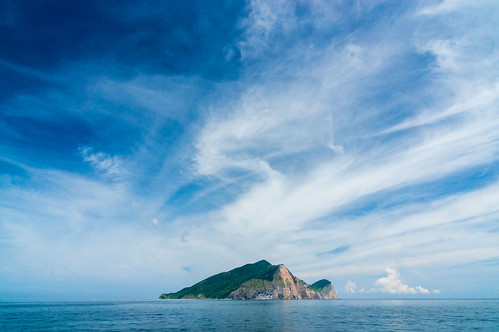turtleIsland: (158, 258, 340, 301)
